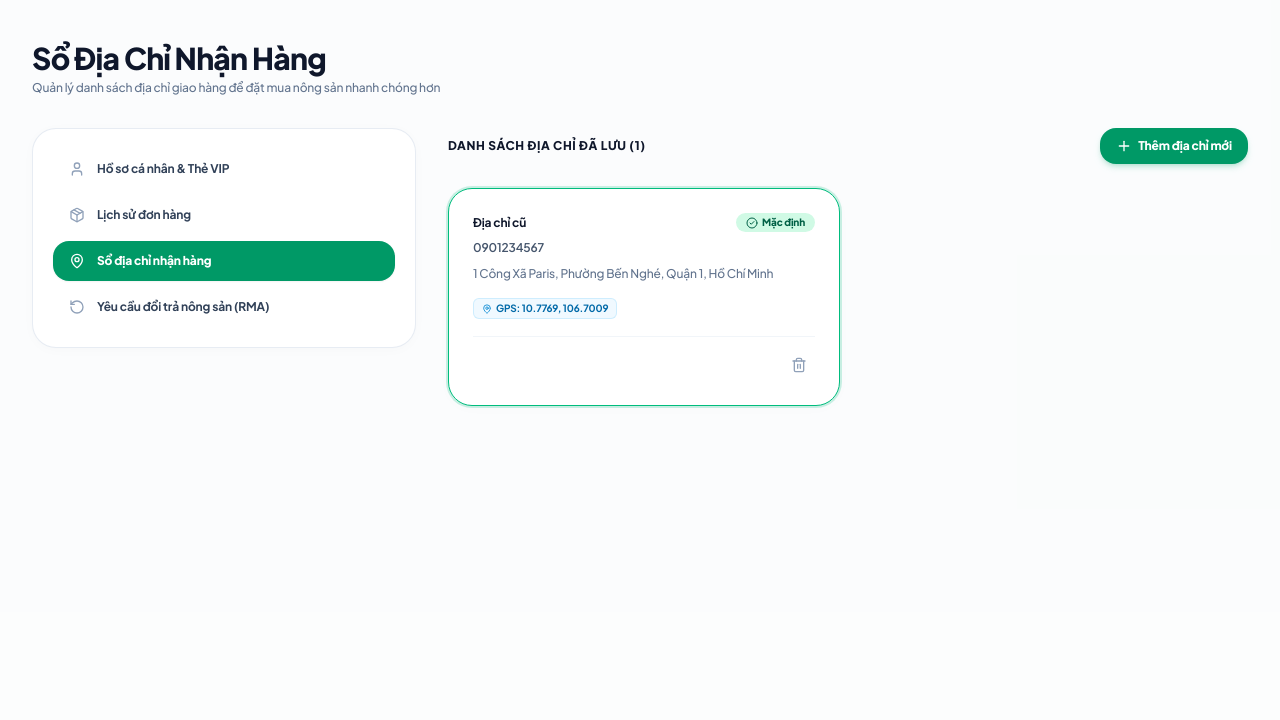
Scenario: DiaChiPage - Optional GPS Coordinates › khi mở form thêm địa chỉ, thanh GPS mặc định là TÙY CHỌN và KHÔNG bị tự động gán tọa độ hiện tại
expect the text "Thêm địa chỉ mới" is shown: met, box [1138,138,1232,154]
// Mở form thêm địa chỉ
Click the button "Thêm địa chỉ mới": (1174, 146) [1100,128,1248,164]
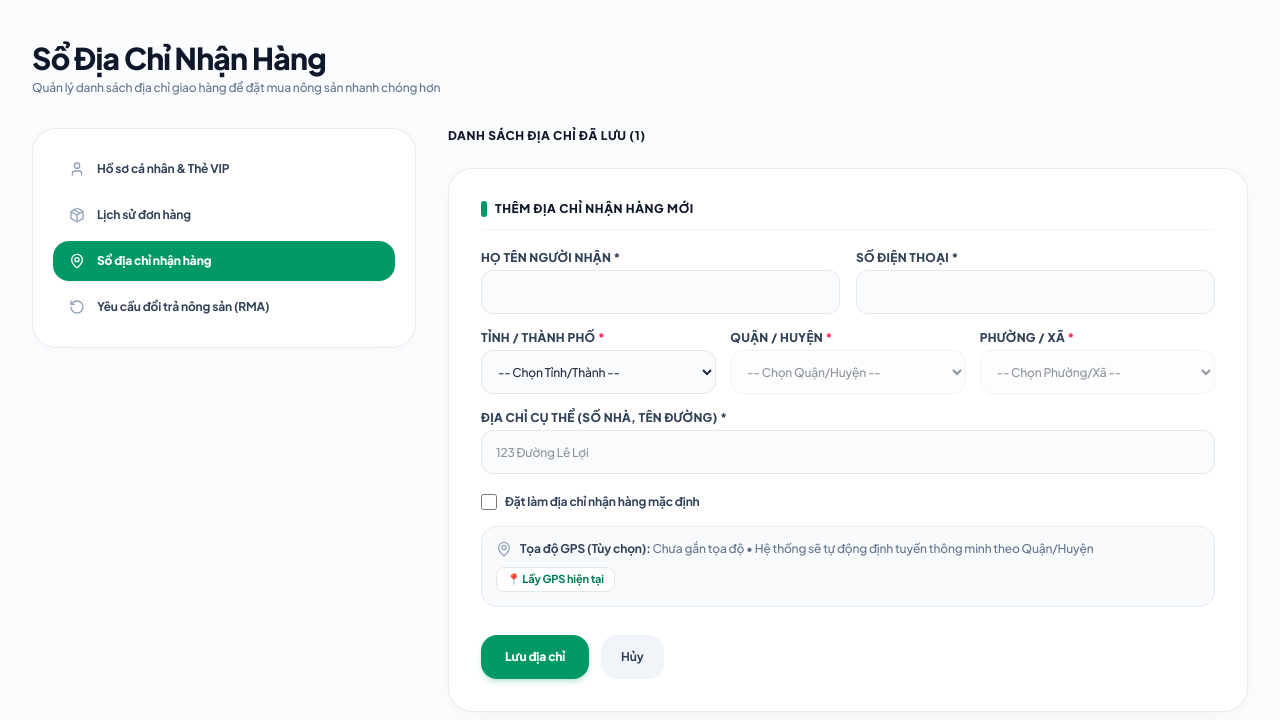
expect the heading "Thêm Địa Chỉ Nhận Hàng Mới" is shown: met, box [481,201,1215,230]
expect the text "Tọa độ GPS (Tùy chọn):" is shown: met, box [520,541,653,556]
expect the text "Chưa gắn tọa độ" is shown: met, box [653,541,1094,556]
